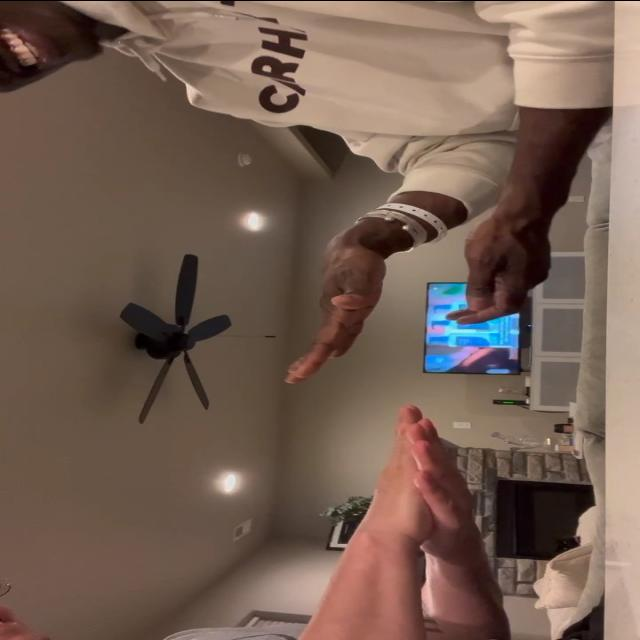Paper: (280, 238, 388, 382), (362, 419, 424, 536)
